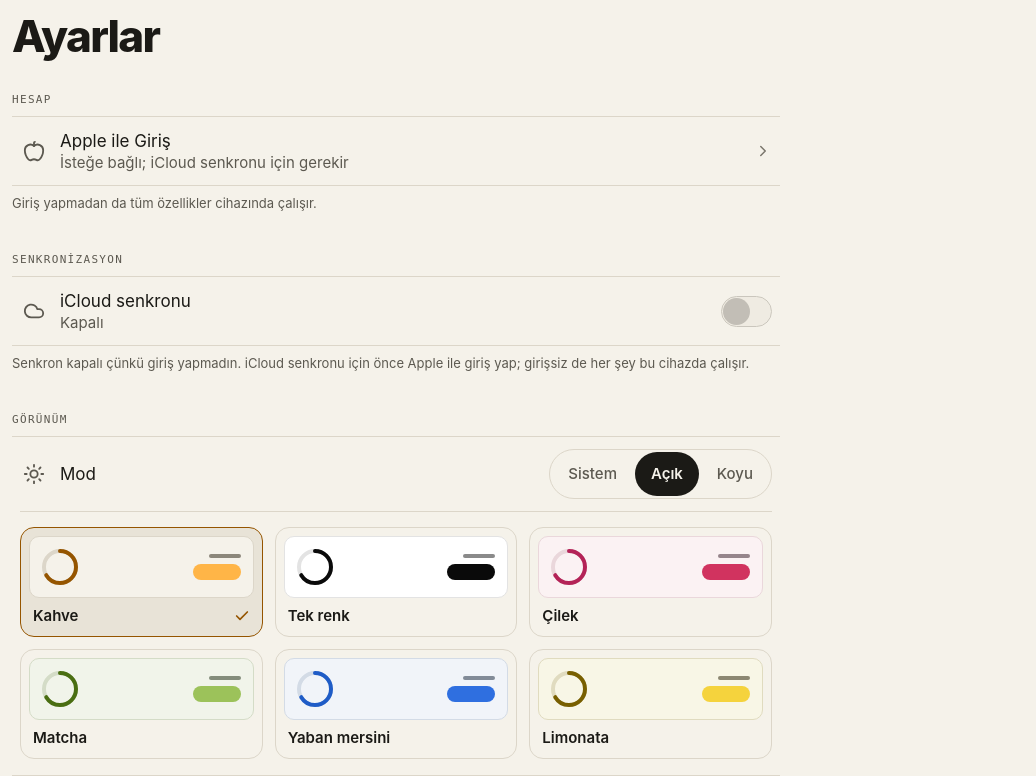
SettingsScreen · hesap ve senkron › signs out, disables sync and keeps local data
Click the button "Apple ile Giriş İsteğe bağlı; iCloud senkronu için gerekir".
click(115, 141)  # box [12,117,780,185]
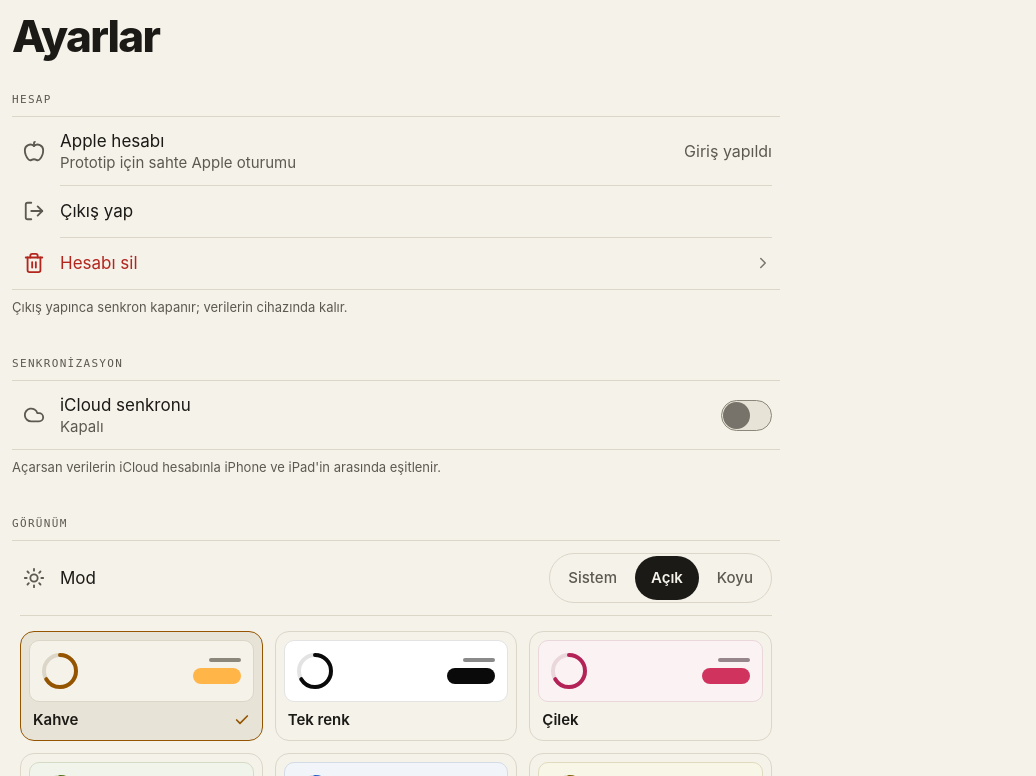
Click the switch named "iCloud senkronu".
click(746, 415)  # box [721,393,772,437]
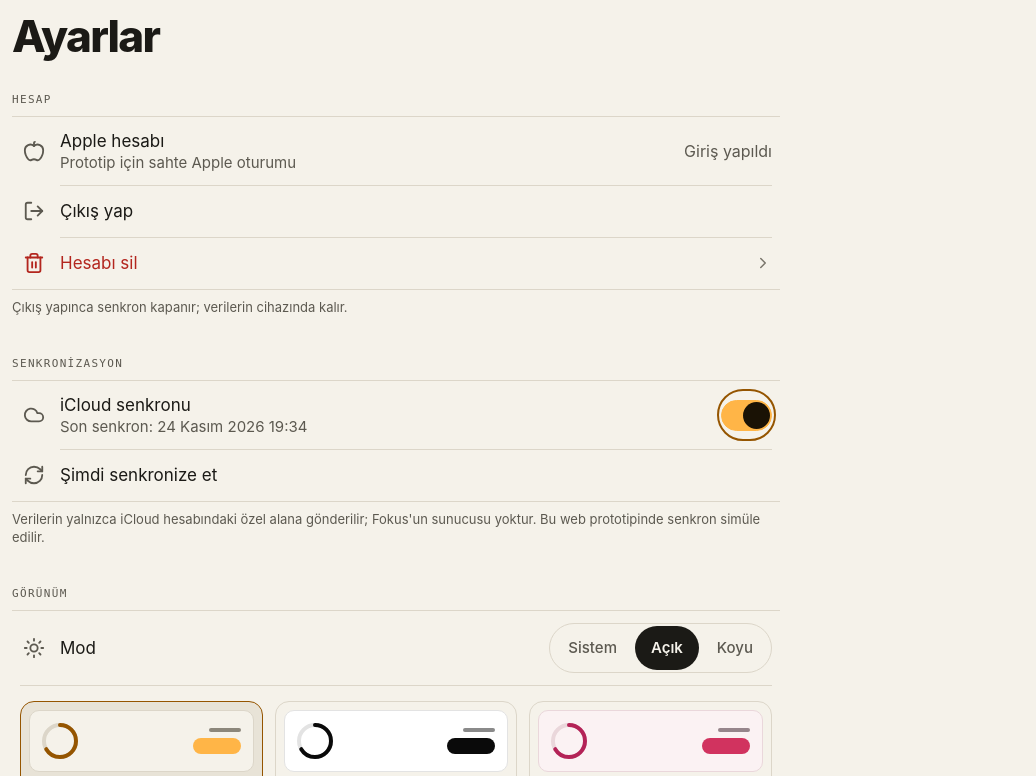
Click the button "Çıkış yap".
click(97, 211)  # box [12,185,780,237]
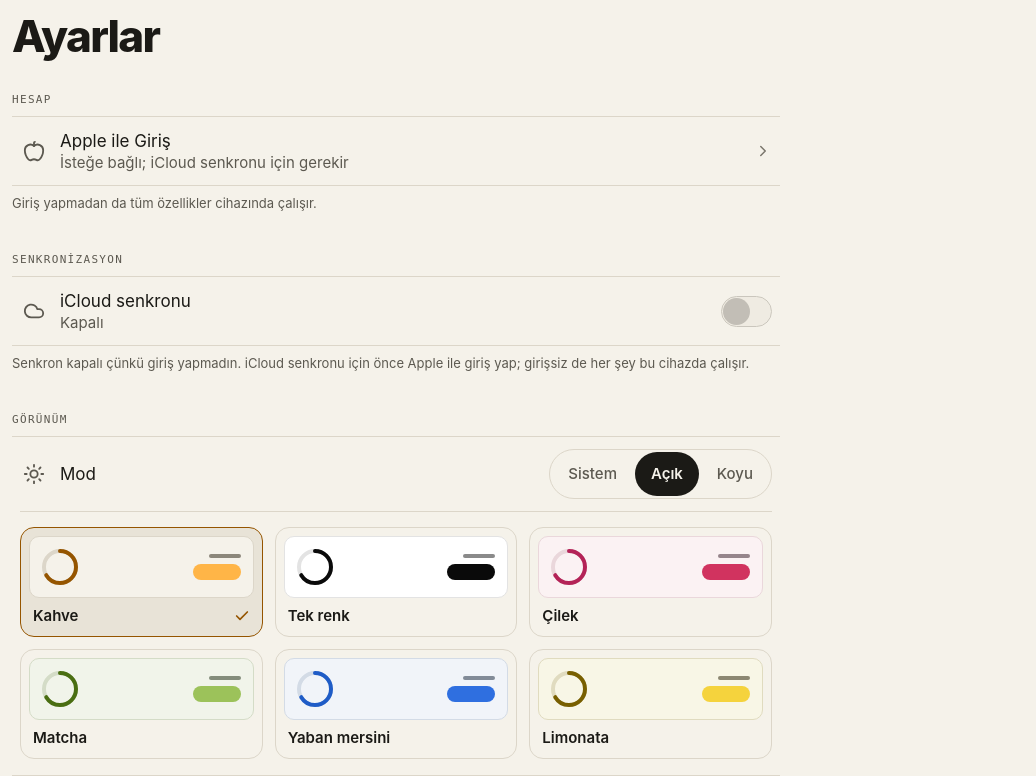
Check: the button "Apple ile Giriş İsteğe bağlı; iCloud senkronu için gerekir" is shown, box [12,117,780,185]
Check: the switch named "iCloud senkronu" is disabled, box [721,289,772,333]
